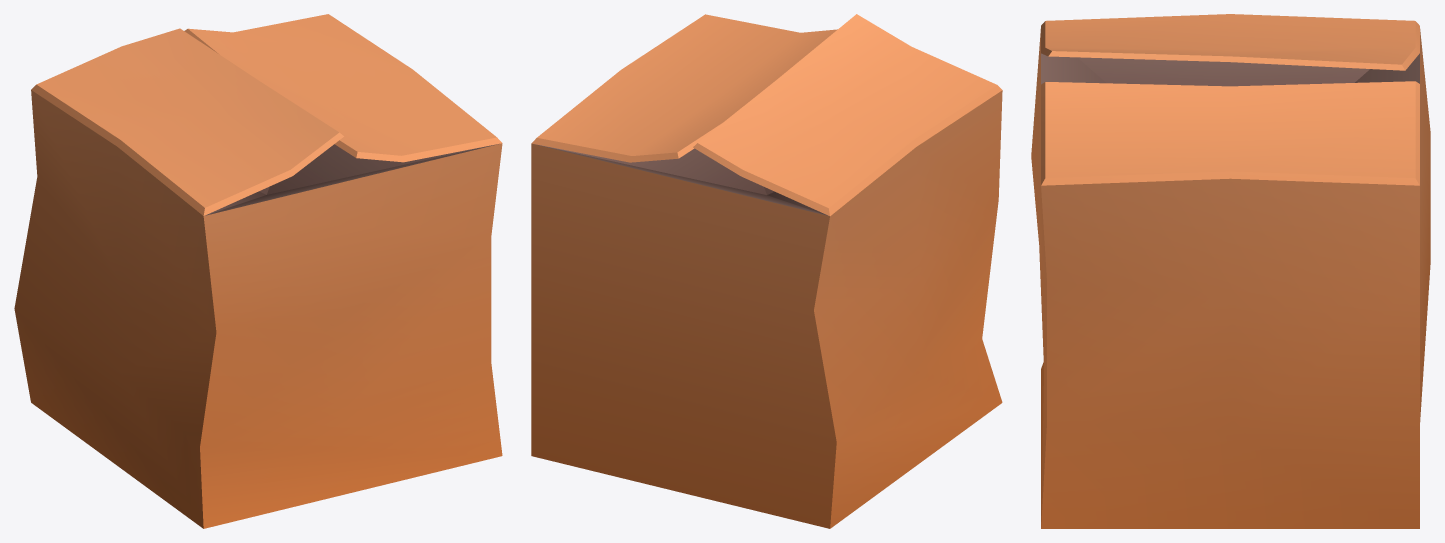
Rendered from Trash_009.fbx.
3 renders of one model, left to right at view 1: azimuth 30°, elevation 25°; view 2: azimuth 150°, elevation 25°; view 3: azimuth 270°, elevation 25°, orthographic. The views are drawn at different scales.
Parts seen in each view (by area): view 1: Trash_009; view 2: Trash_009; view 3: Trash_009.
Part boxes in pixels (x1,y1,x2,y2): Trash_009: (14, 14, 502, 528); Trash_009: (531, 14, 1002, 528); Trash_009: (1031, 14, 1430, 528).
Size of the model in its own units: 44.38 by 43.76 by 47.53.
